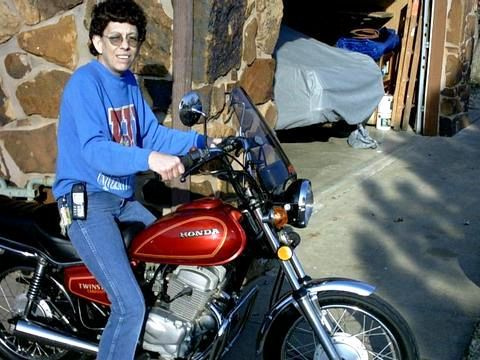without_mask: (90, 16, 139, 72)
